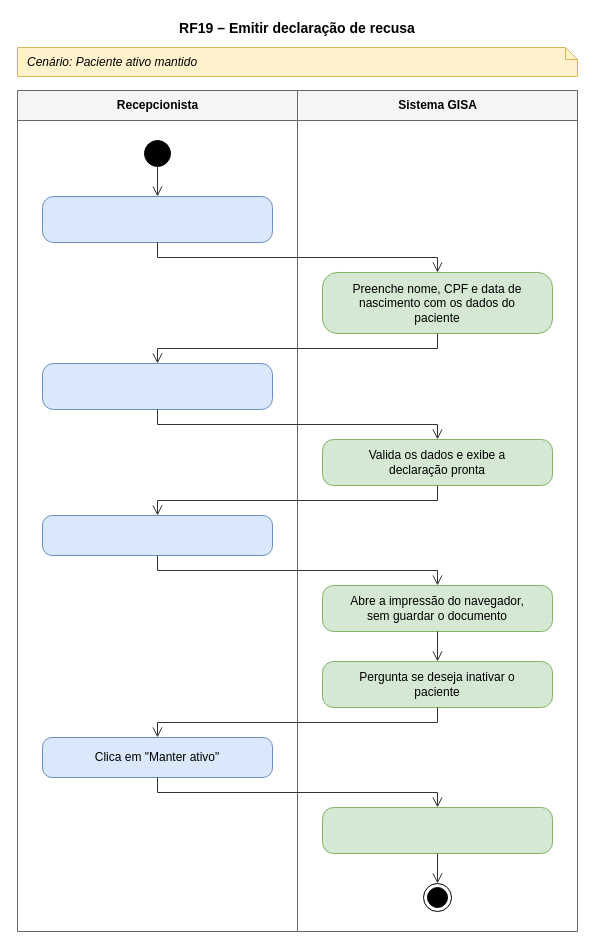
This 595x949 diagram has some shape labels left out. Each missing label, with the centre of its shape:
Acessa "Emitir Recusa" e escolhe um paciente cadastrado: point 157,219
Clica em "Imprimir / Baixar PDF": point 157,535
Informa o motivo e clica em "Visualizar recusa": point 157,386
Mantém o cadastro do paciente sem alterações: point 437,830
